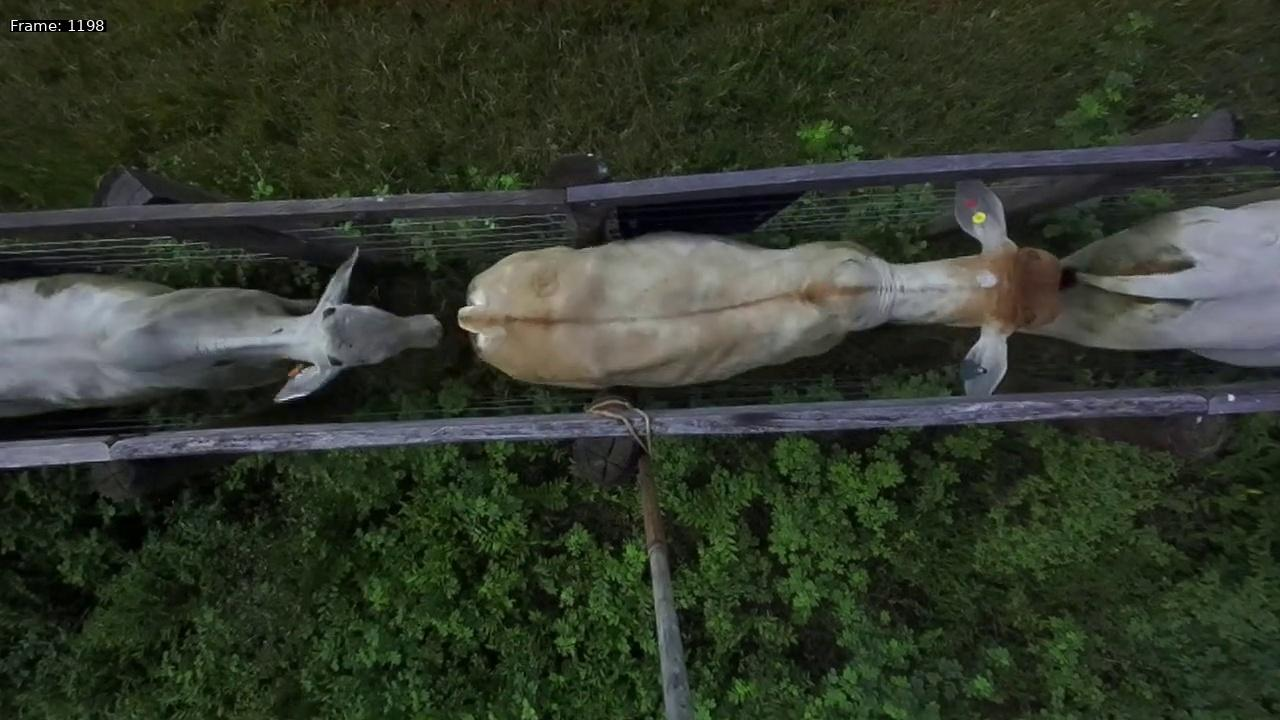cattle: (444, 174, 1074, 409)
